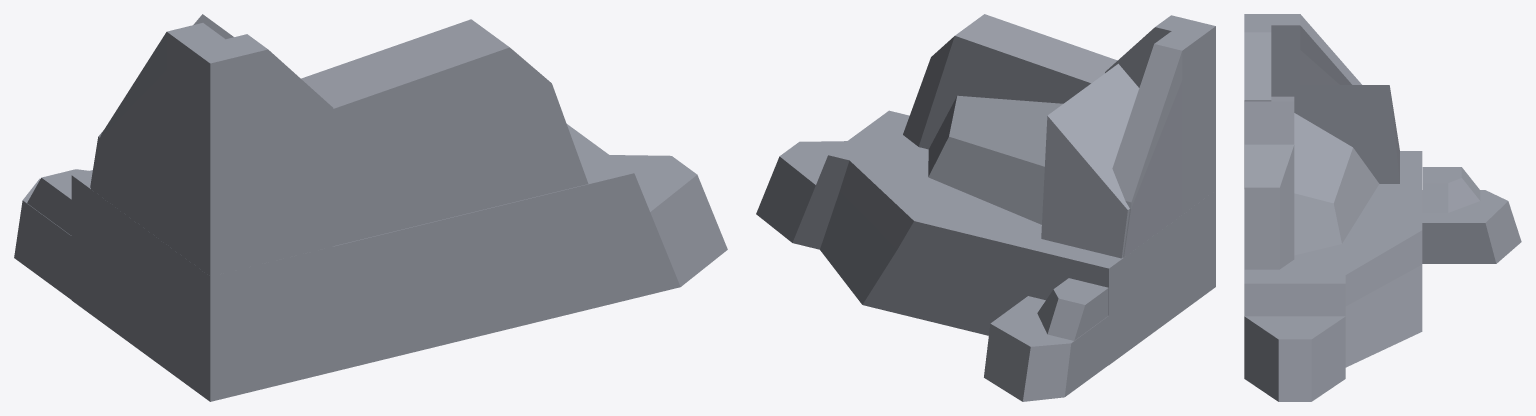
File: Roca_Tipo1 1.fbx
3 renders of one model, left to right at view 1: azimuth 30°, elevation 25°; view 2: azimuth 150°, elevation 25°; view 3: azimuth 270°, elevation 25°, orthographic. The views are drawn at different scales.
Visible parts, largest first — view 1: Cubo.006, Cubo.005, Cubo.011, Cubo.007, Cubo.008; view 2: Cubo.006, Cubo.005, Cubo.010, Cubo.011, Cubo.012, Cubo.007, Cubo.008; view 3: Cubo.006, Cubo.011, Cubo.012, Cubo.010, Cubo.005, Cubo.007, Cubo.008.
Boxes of the visible parts, <box> form: Cubo.006: <box>71,124,727,401</box>; Cubo.005: <box>91,23,333,276</box>; Cubo.011: <box>301,19,588,246</box>; Cubo.007: <box>14,178,71,299</box>; Cubo.008: <box>27,169,88,235</box>; Cubo.006: <box>756,110,1215,364</box>; Cubo.005: <box>1105,15,1215,257</box>; Cubo.010: <box>1041,63,1139,258</box>; Cubo.011: <box>903,14,1117,149</box>; Cubo.012: <box>928,95,1062,224</box>; Cubo.007: <box>984,296,1108,401</box>; Cubo.008: <box>1037,278,1108,340</box>; Cubo.006: <box>1244,151,1422,401</box>; Cubo.011: <box>1244,96,1294,269</box>; Cubo.012: <box>1294,113,1379,255</box>; Cubo.010: <box>1271,85,1399,183</box>; Cubo.005: <box>1244,14,1361,188</box>; Cubo.007: <box>1422,190,1521,263</box>; Cubo.008: <box>1422,167,1480,212</box>.
Bounding box in the file's own units: 270 × 160 × 185.
7 materials, 7 textured.
